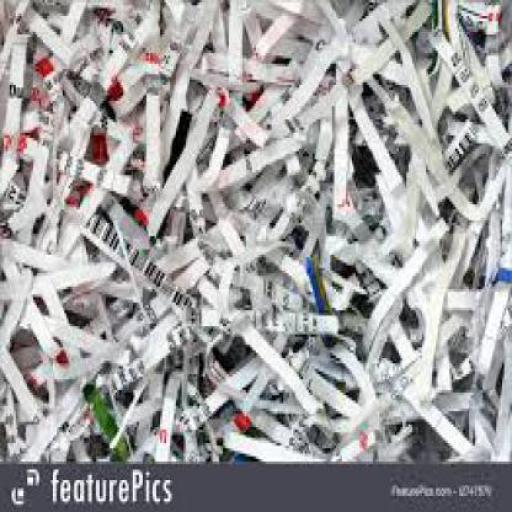paper: (0, 0, 511, 463)
